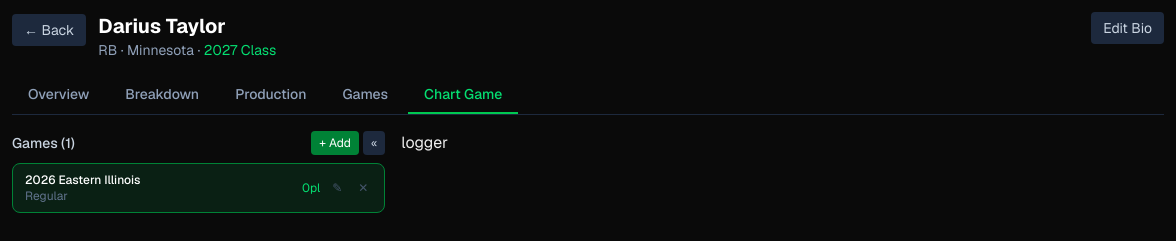
Test case: Chart Game: collapsible games list › collapses the games list to a rail, gives the logger the full row, and expands it again
Expected: the text "2026 Eastern Illinois" is shown, [25,172,140,188]
Click the button named "Hide games list" at (374,143), box [363,131,385,155]
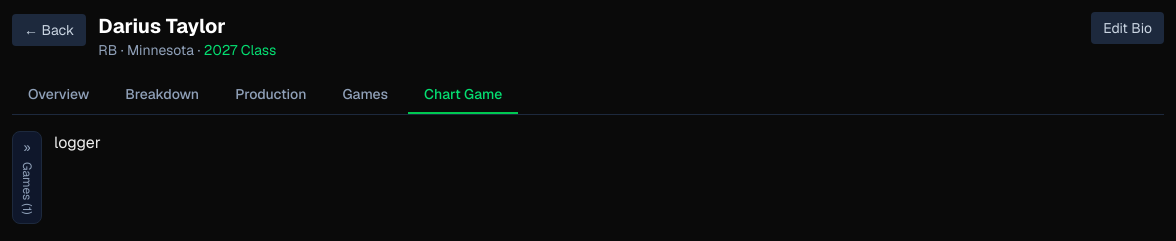
Now the text "2026 Eastern Illinois" is gone
Now the button "+ Add" is gone
Now the button with aria-label "Show games list" shows "Games (1)"
Click the button with aria-label "Show games list" at (27,177), box [12,131,42,224]
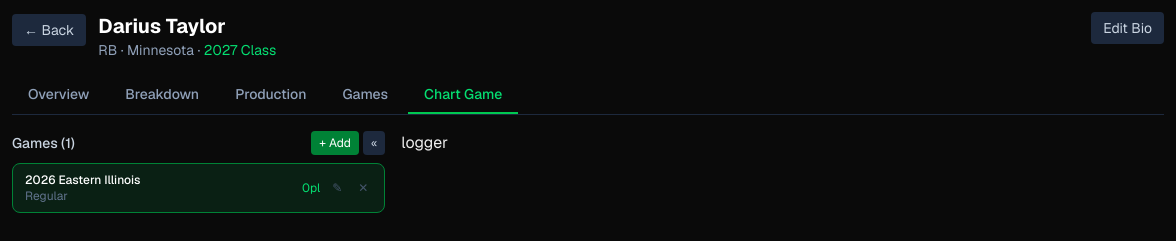
Now the text "2026 Eastern Illinois" is shown, box [25,172,140,188]
